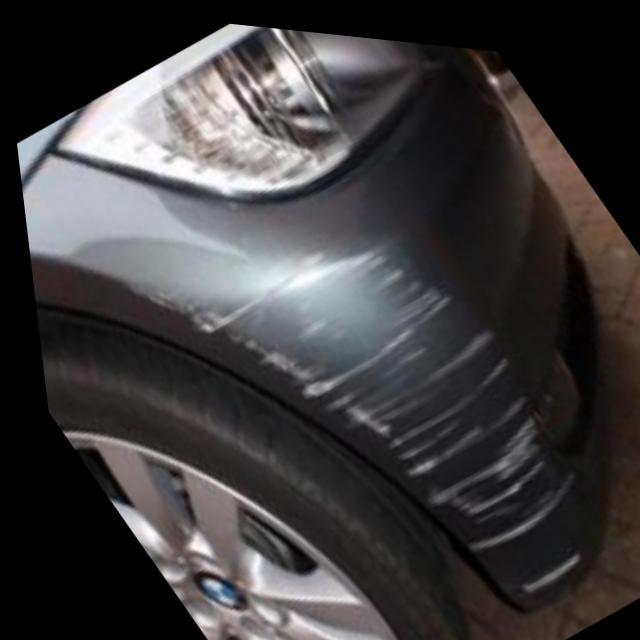rub: (123, 241, 545, 534)
